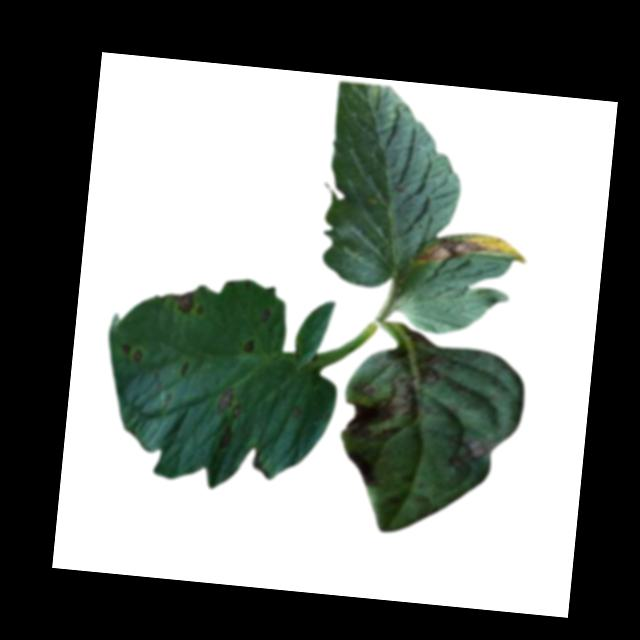Early_blight: (344, 343, 447, 446), (413, 226, 531, 274), (443, 432, 501, 475), (345, 450, 384, 486), (215, 385, 245, 420), (172, 285, 198, 315), (120, 340, 146, 363), (217, 422, 236, 452), (242, 334, 256, 354), (258, 307, 271, 324)
